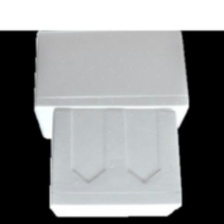foam_box: (30, 31, 194, 141), (43, 104, 186, 220)
